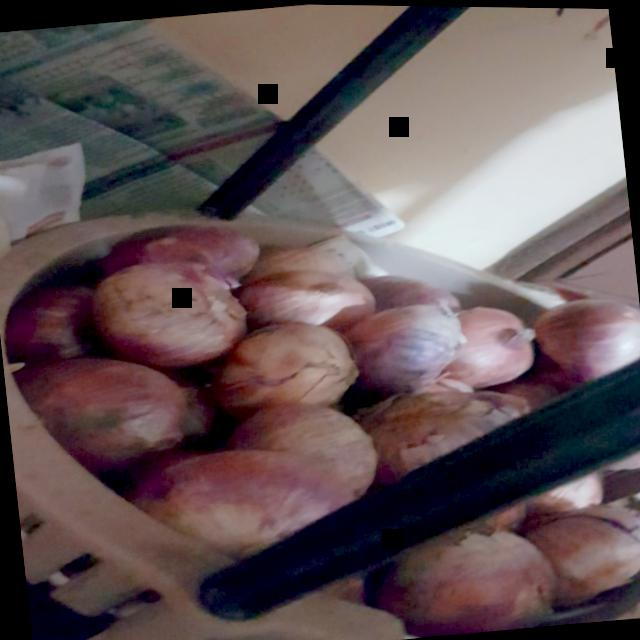onion: (130, 429, 375, 593), (6, 334, 211, 483), (385, 526, 573, 640), (86, 240, 255, 364), (206, 298, 365, 419), (321, 289, 482, 403), (516, 280, 640, 387), (435, 285, 544, 401), (521, 491, 640, 596)
